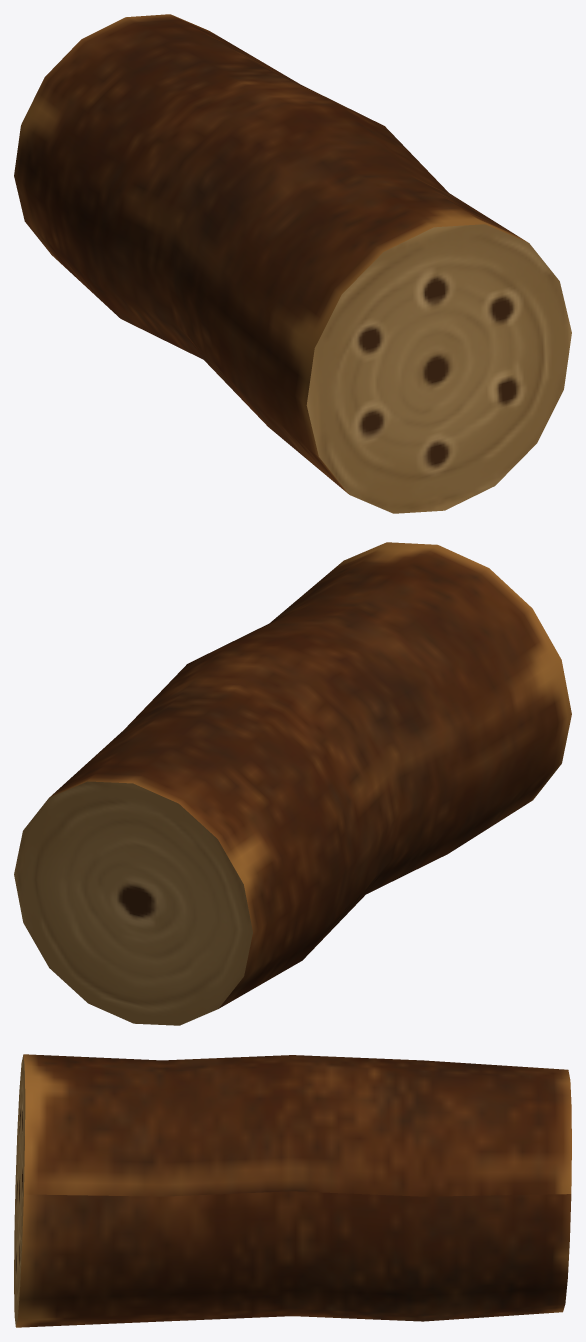
Rendered from assets_bughotel_wood_big.fbx.
3 views of the same model, one above another, from view 1: azimuth 30°, elevation 25°; view 2: azimuth 150°, elevation 25°; view 3: azimuth 270°, elevation 25° (orthographic). The views are drawn at different scales.
Visible parts, largest first — view 1: assets_bughotel_wood_big; view 2: assets_bughotel_wood_big; view 3: assets_bughotel_wood_big.
Boxes of the visible parts, <box> form: assets_bughotel_wood_big: <box>14,14,571,513</box>; assets_bughotel_wood_big: <box>14,542,571,1025</box>; assets_bughotel_wood_big: <box>14,1054,571,1327</box>.
Size of the model in its own units: 1.27 by 1.28 by 2.56.
